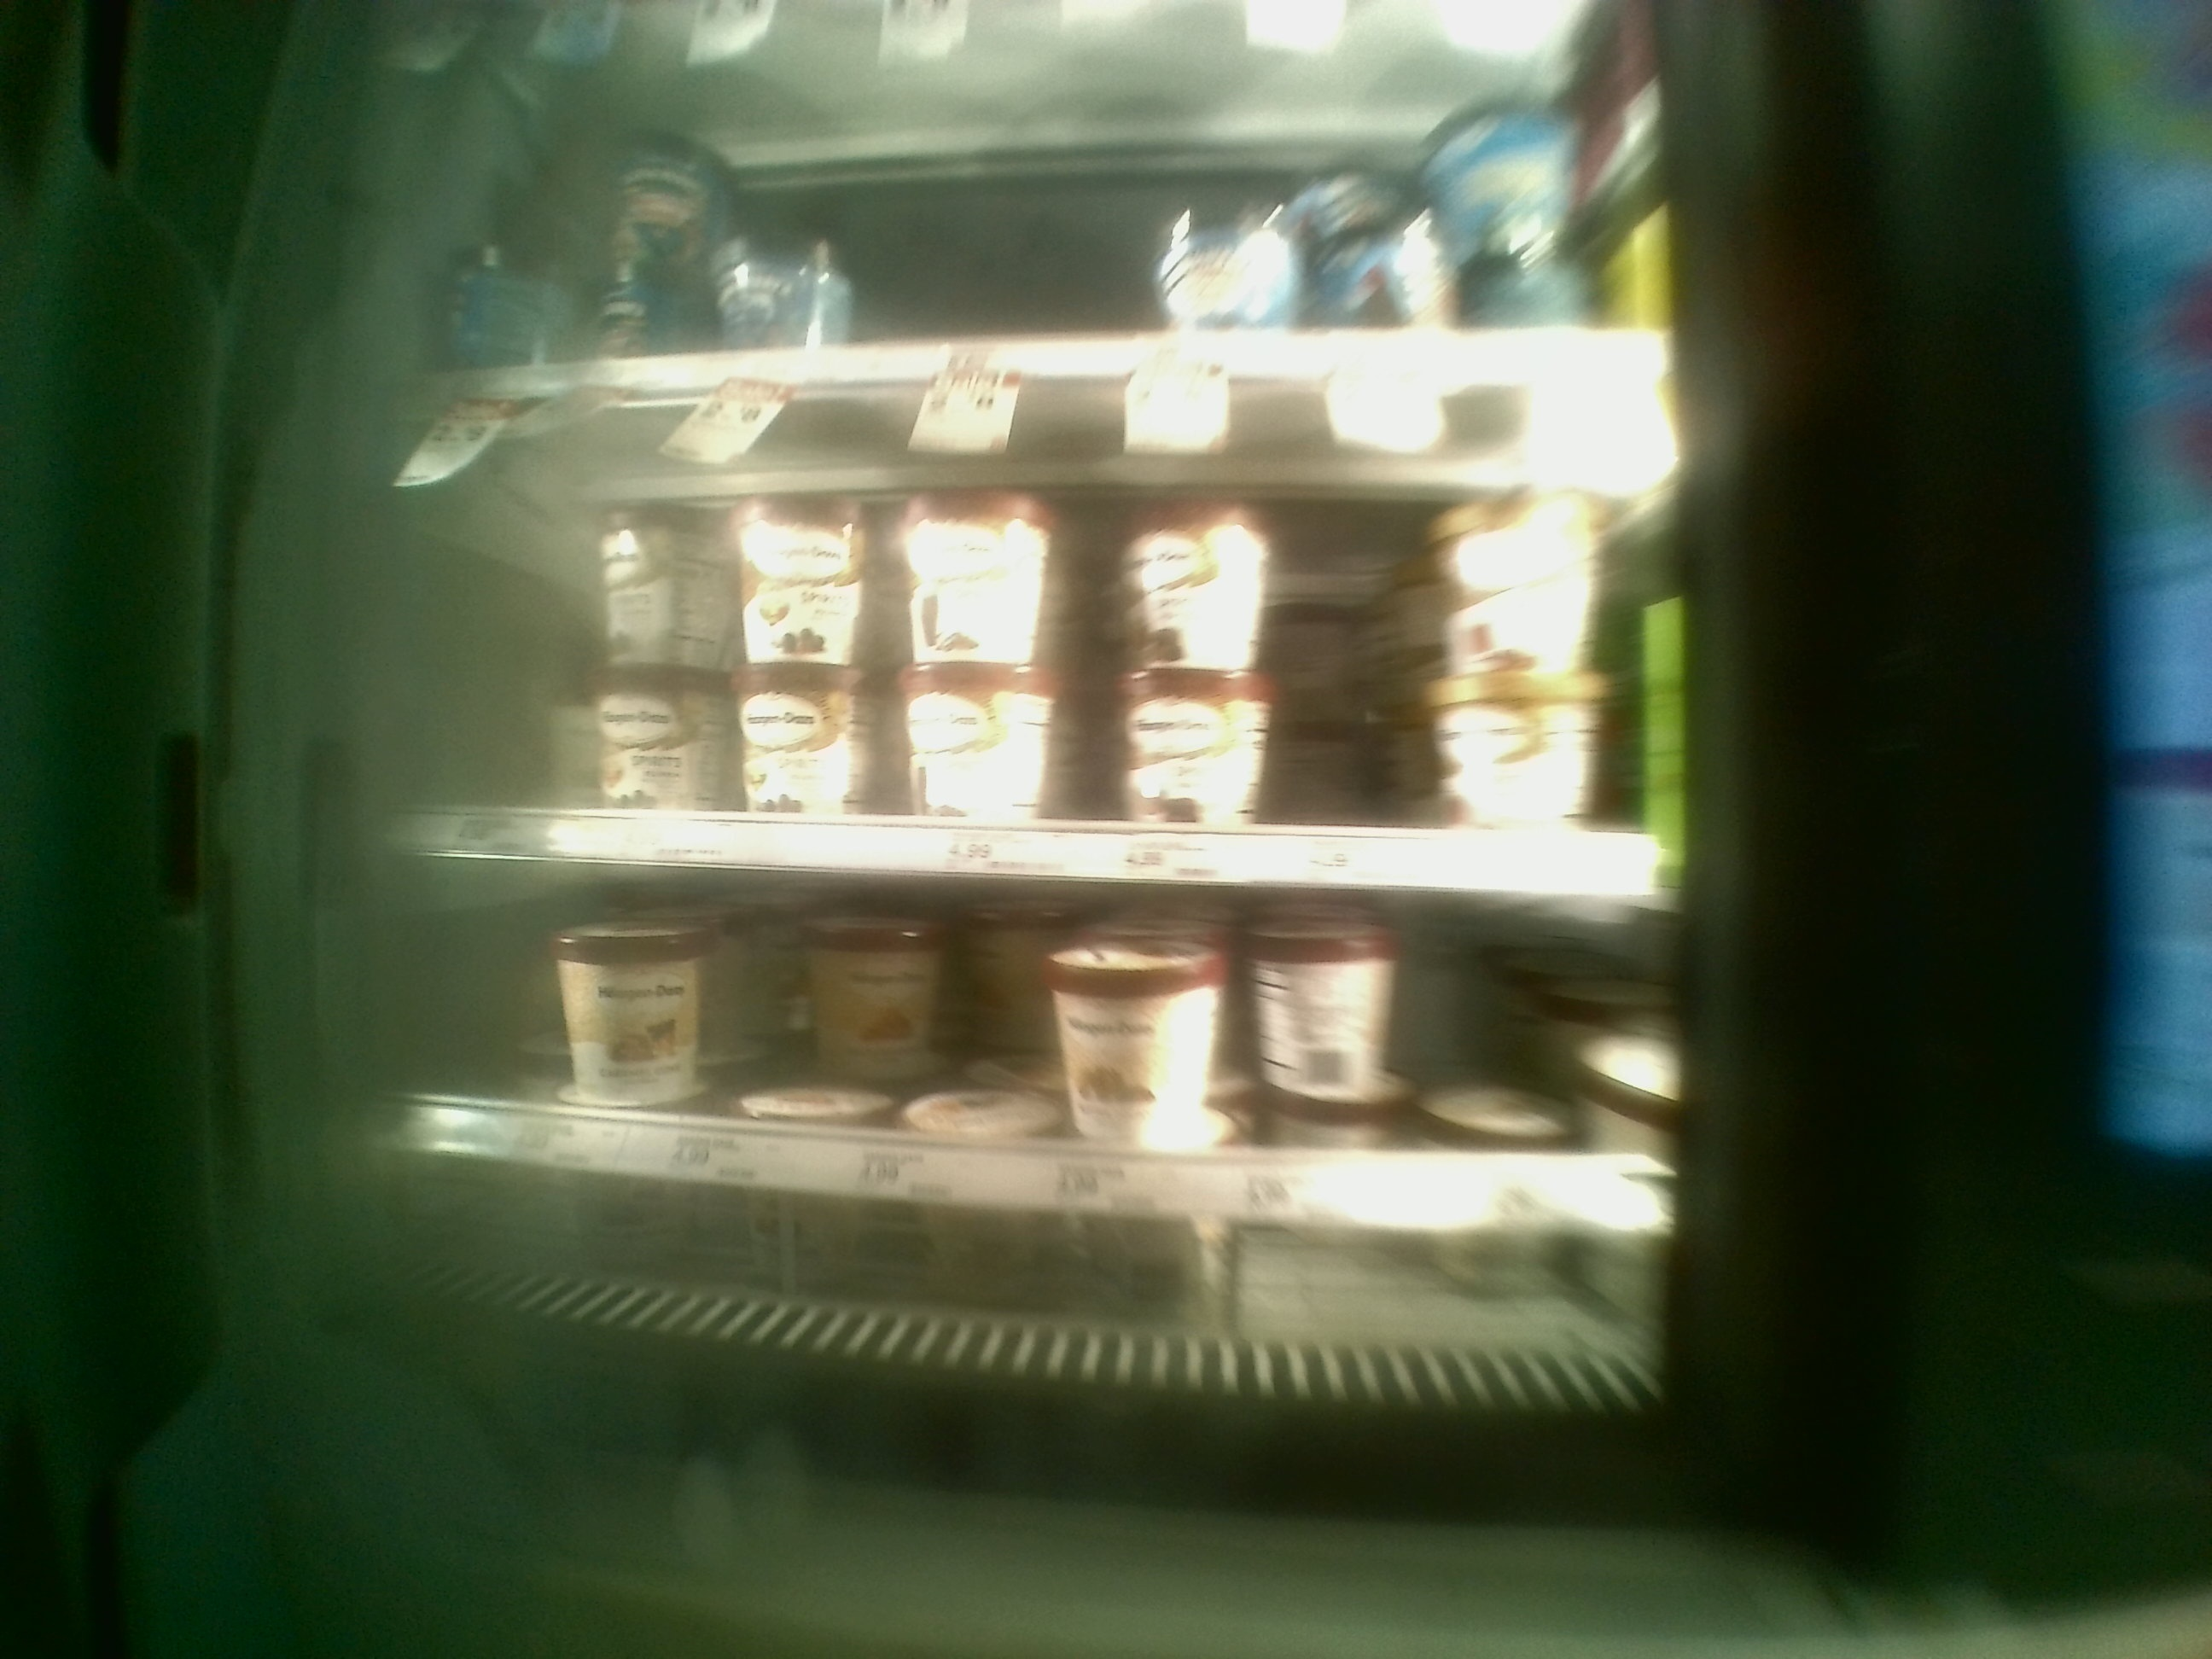shelf: (376, 387, 1676, 878), (380, 864, 1672, 1286)
